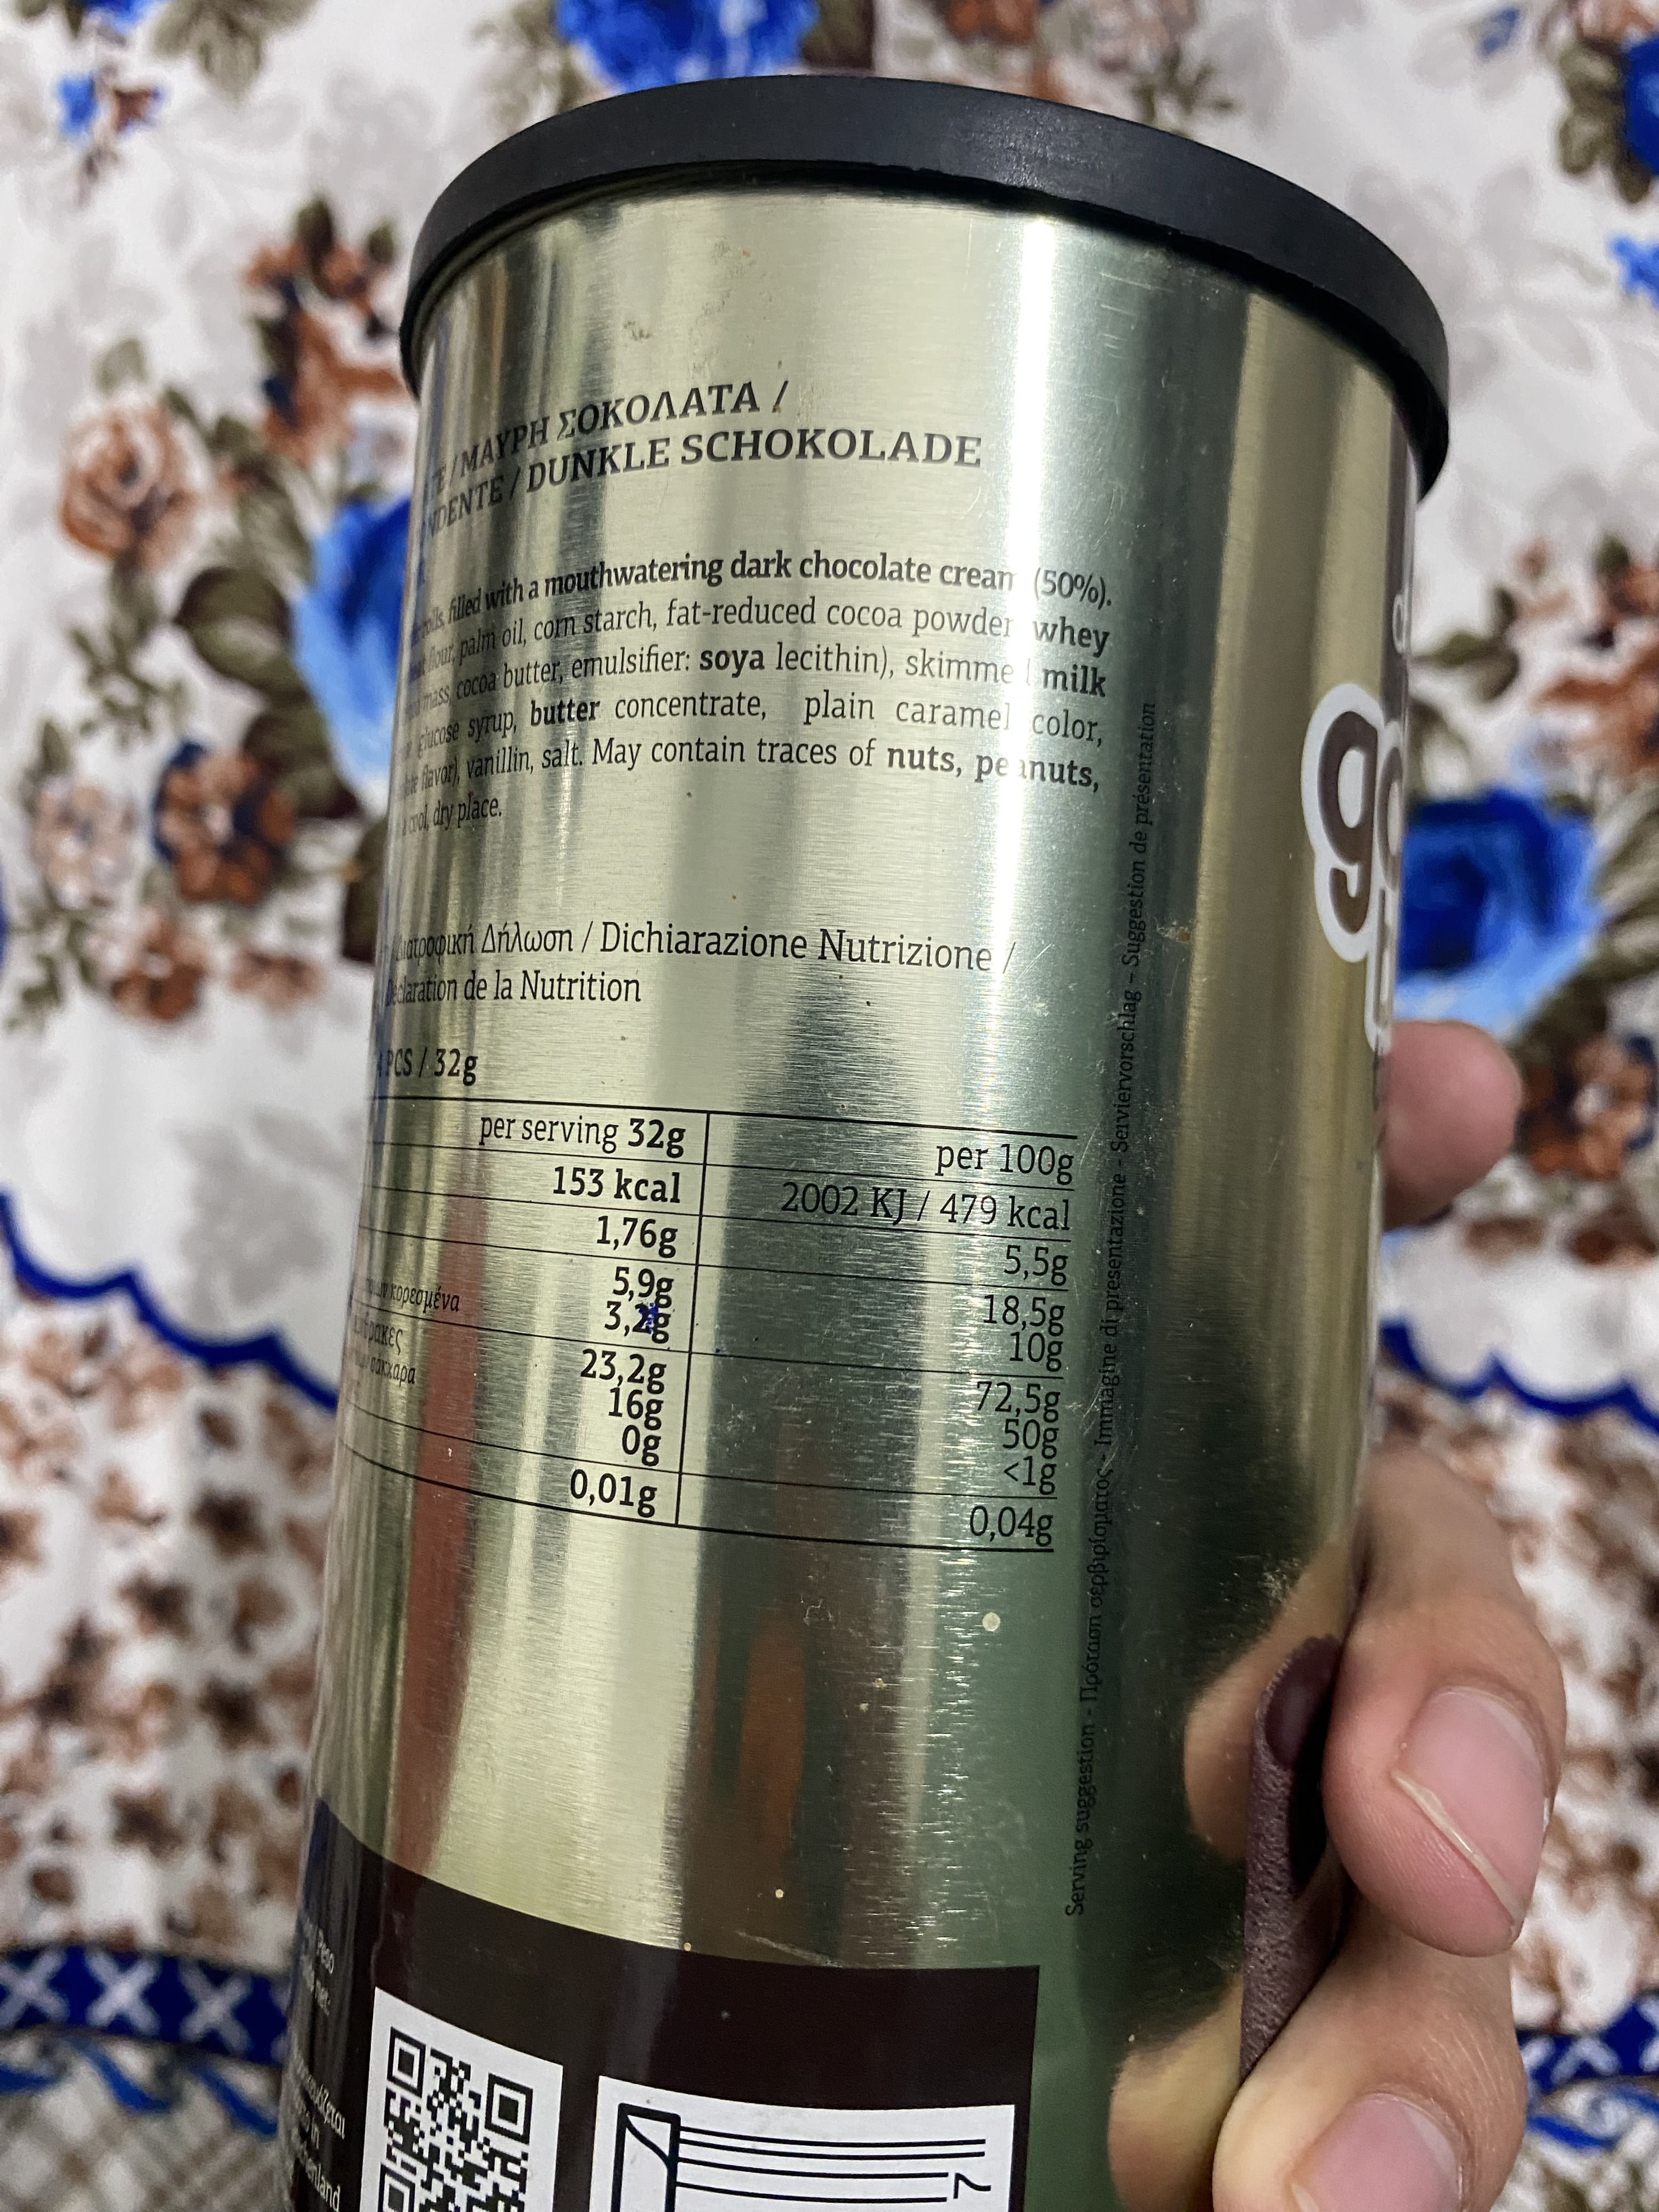table: (335, 1080, 1094, 1580)
